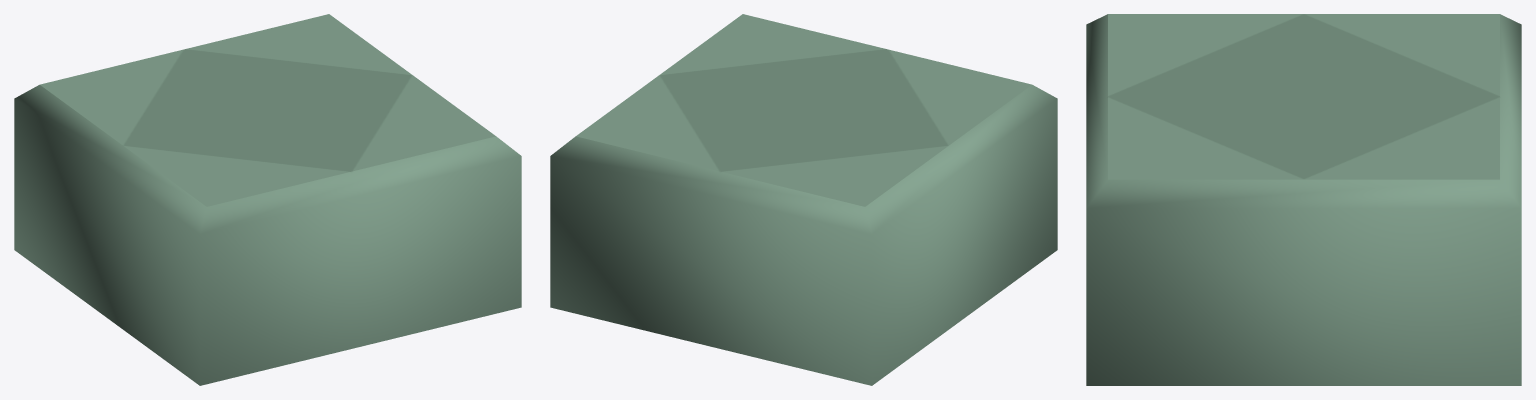
Rendered from SmallPoint.fbx.
3 renders of one model, left to right at view 1: azimuth 30°, elevation 25°; view 2: azimuth 150°, elevation 25°; view 3: azimuth 270°, elevation 25°, orthographic. The views are drawn at different scales.
Parts seen in each view (by area): view 1: Model; view 2: Model; view 3: Model.
Part boxes in pixels (left/top/right/bottom): Model: left=14, top=14, right=521, bottom=385; Model: left=550, top=14, right=1057, bottom=385; Model: left=1086, top=14, right=1521, bottom=385.
Size of what is drawn, in the model's own units: 400 by 200 by 400.
1 material, 1 textured.
